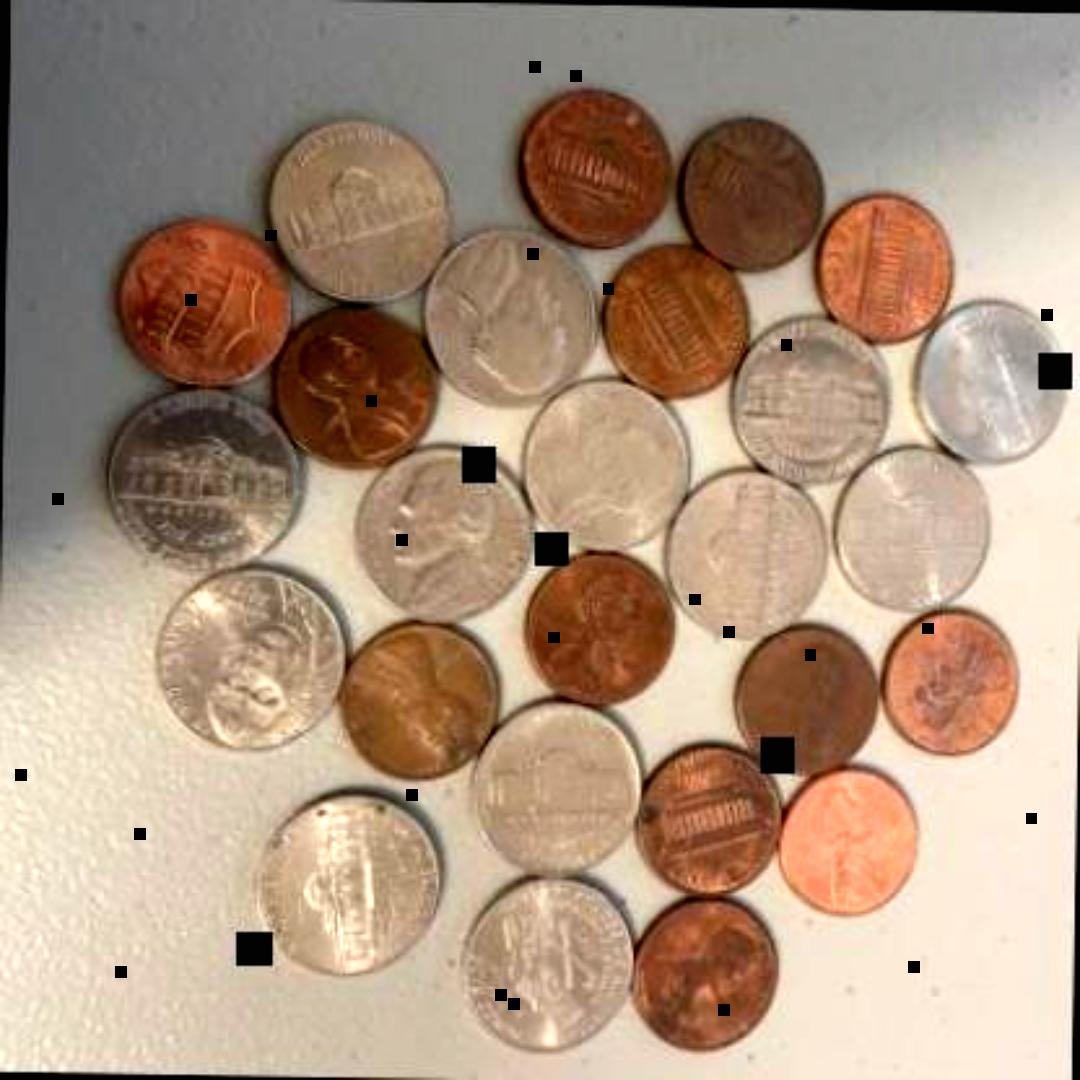Nickel: (144, 566, 350, 756), (102, 384, 300, 574), (256, 787, 444, 979), (264, 114, 453, 304), (419, 223, 603, 407), (456, 871, 636, 1055), (360, 442, 534, 626), (518, 372, 692, 552), (661, 462, 829, 642), (475, 698, 648, 871), (907, 294, 1067, 466), (731, 315, 891, 483), (830, 446, 988, 614)
Penny: (109, 210, 293, 384), (276, 300, 438, 468), (516, 82, 674, 250), (518, 543, 676, 703), (342, 619, 502, 777), (628, 890, 783, 1052), (600, 241, 750, 404), (634, 738, 788, 894), (677, 113, 827, 273), (731, 621, 881, 771), (873, 602, 1018, 755), (815, 193, 955, 348), (780, 762, 920, 917)
